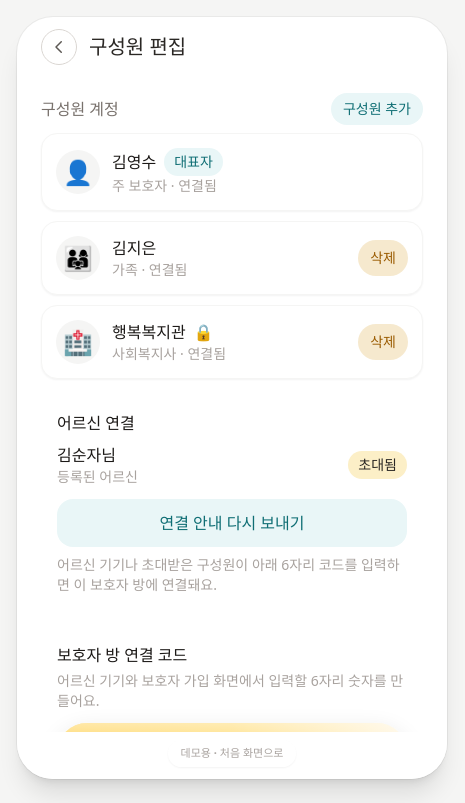
Test: entry points › removes a caregiver member after confirming the delete card
expect the text "김지은" is shown: met, box [112,236,156,260]
Click the button with aria-label "김지은 삭제" at (383,258), box [358,240,408,276]
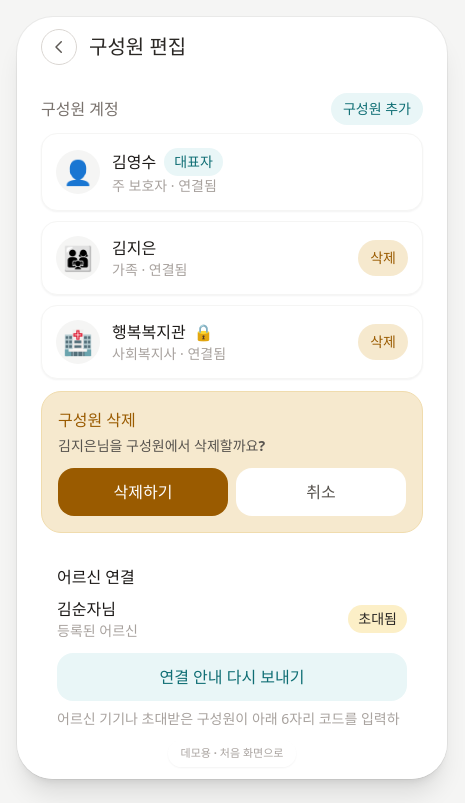
expect the text "김지은님을 구성원에서 삭제할까요?" is shown: met, box [58,436,265,455]
Click the button "삭제하기" at (143,492), box [58,468,228,516]
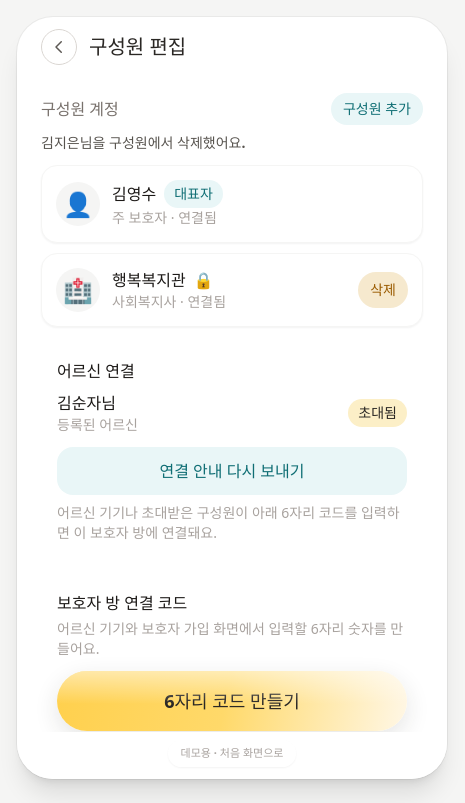
expect the text "김지은님을 구성원에서 삭제했어요." is shown: met, box [41,133,246,152]
